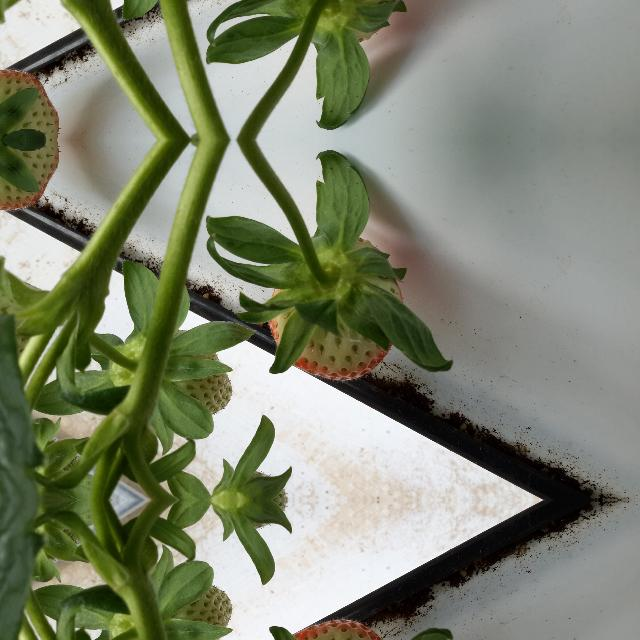Health_100: (267, 236, 403, 380), (267, 0, 403, 44)
Health_25: (122, 334, 238, 418), (121, 582, 238, 640)
